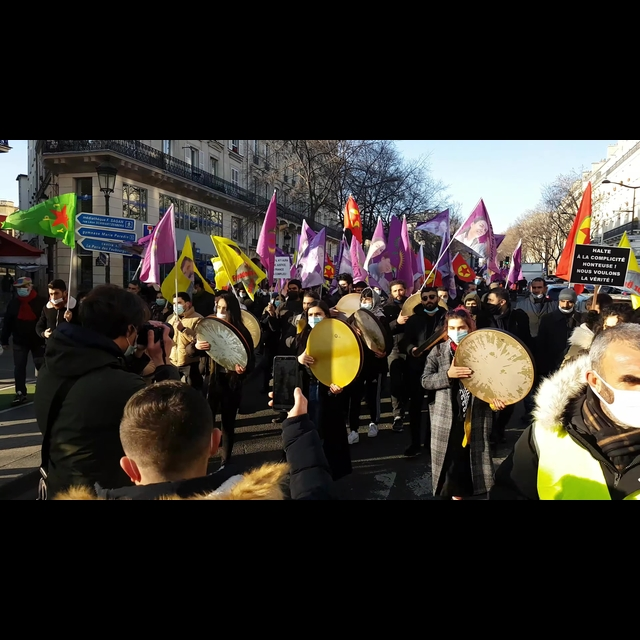APO: (179, 259, 198, 282)
PKK: (321, 261, 338, 280), (457, 262, 471, 277)
